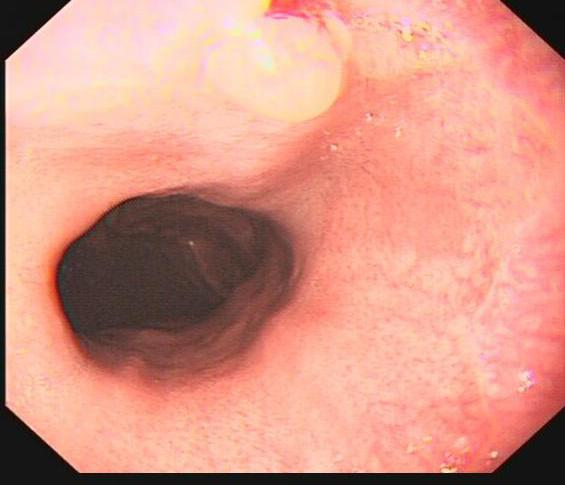Polyp: (194, 13, 353, 128)
